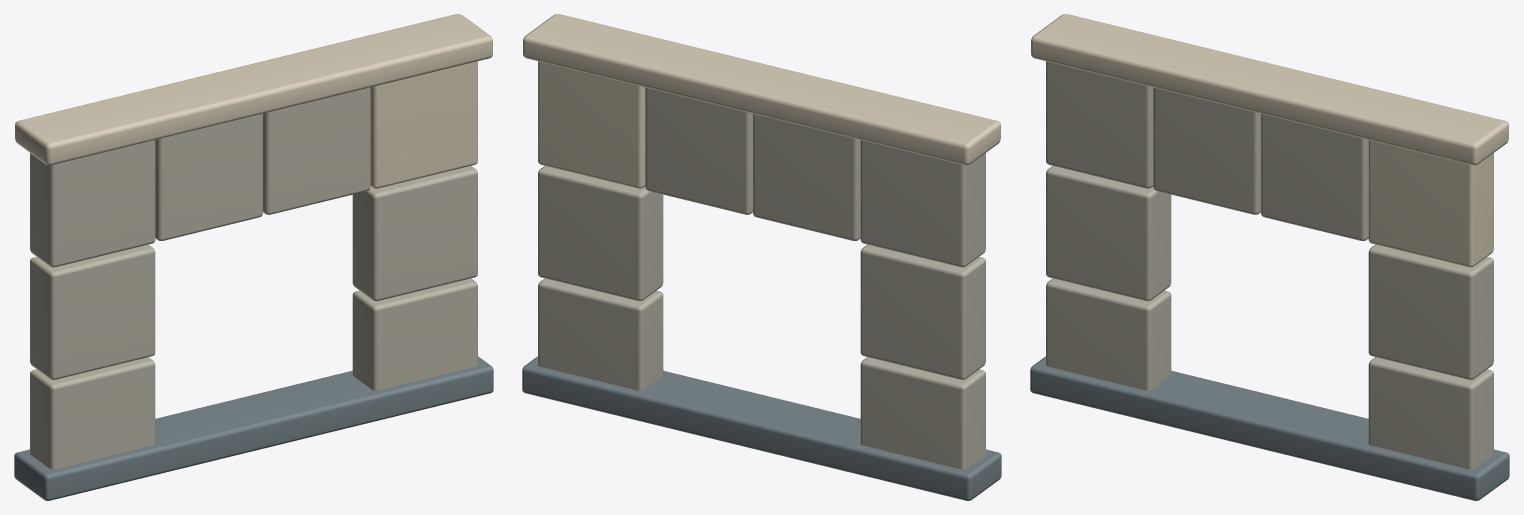
Rendered from SM_Wall_Doorway_Stone_4x3.fbx.
3 renders of one model, left to right at view 1: azimuth 30°, elevation 25°; view 2: azimuth 150°, elevation 25°; view 3: azimuth 330°, elevation 25°, orthographic.
Visible parts, largest first — view 1: SM_Wall_Doorway_Stone_4x3; view 2: SM_Wall_Doorway_Stone_4x3; view 3: SM_Wall_Doorway_Stone_4x3.
Boxes of the visible parts, x1=… form: SM_Wall_Doorway_Stone_4x3: x1=14, y1=14, x2=493, y2=500; SM_Wall_Doorway_Stone_4x3: x1=522, y1=14, x2=1001, y2=500; SM_Wall_Doorway_Stone_4x3: x1=1030, y1=14, x2=1509, y2=500.
Size of the model in its own units: 4.18 by 3.18 by 0.56.
